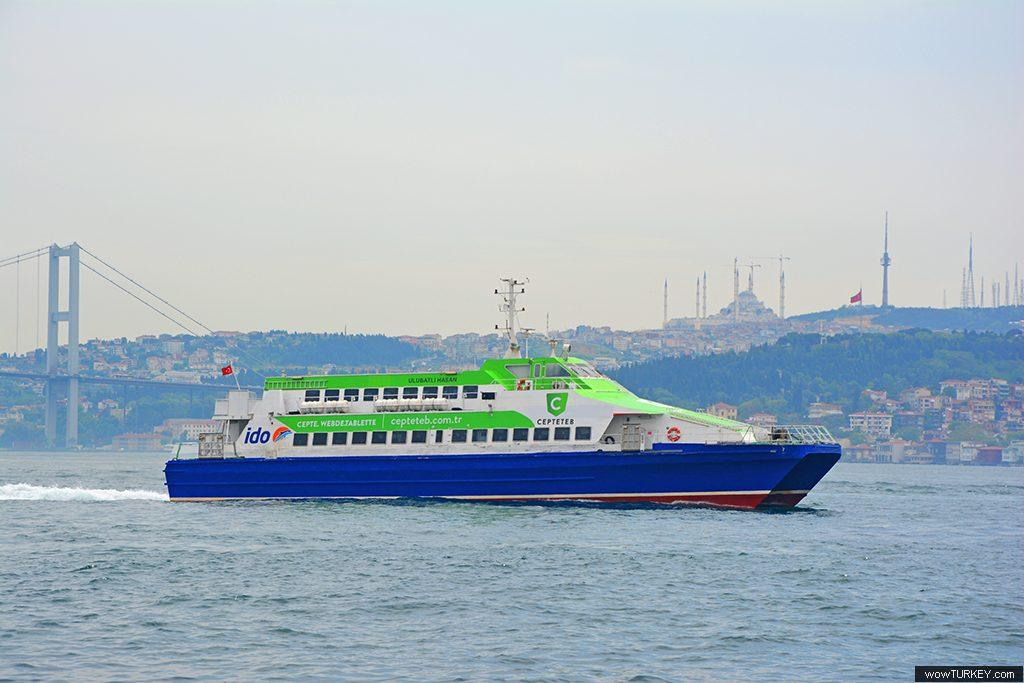PassengerShip: (160, 275, 848, 519)
